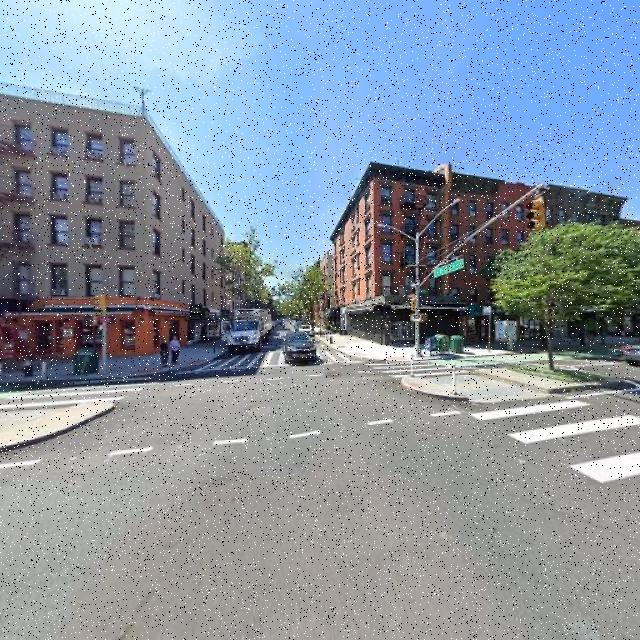Building: (1, 99, 225, 362), (335, 165, 445, 343)
